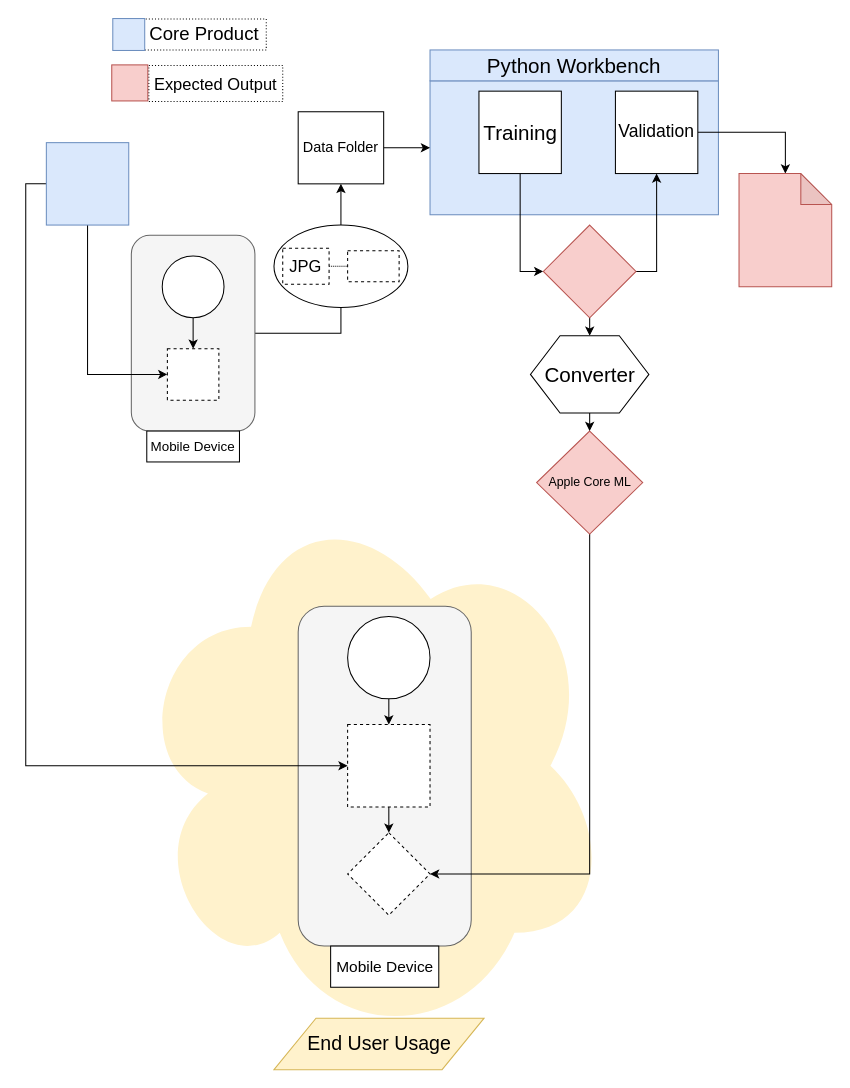
The diagram is 850 pixels wide and 1088 high, and some of its shapes have lost their labels. The shapes that lost their labels are listed below. From the top down, each one's centre as x and y in pixels, then its label:
At [87,183]: "API".
At [785,230]: "Performance Report".
At [192,286]: "App".
At [373,266]: "JSON".
At [589,271]: "Tensorflow".
At [388,657]: "User App".
